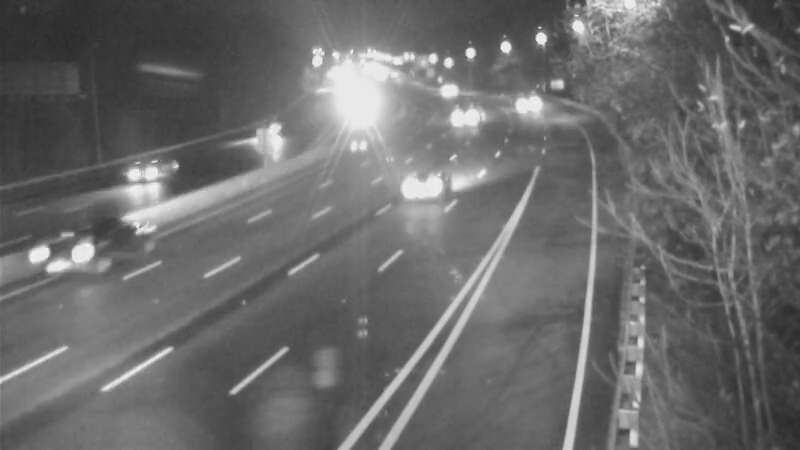vehicle: (373, 151, 453, 231), (24, 211, 104, 291), (109, 134, 189, 214), (421, 66, 471, 116), (503, 78, 553, 128), (434, 92, 484, 142), (242, 107, 292, 157)
